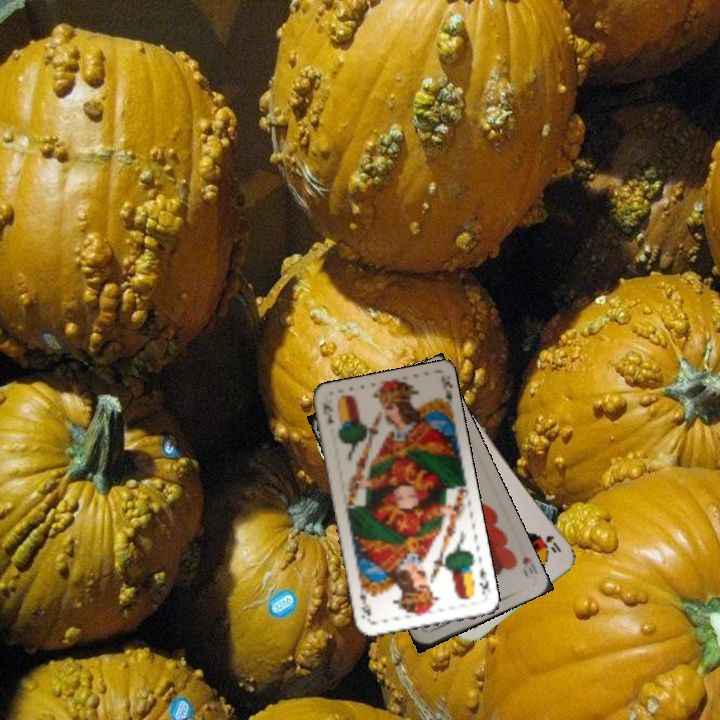EK: (475, 564, 492, 598), (318, 399, 336, 426)
H10: (518, 552, 540, 580)
SO: (535, 531, 564, 555)
